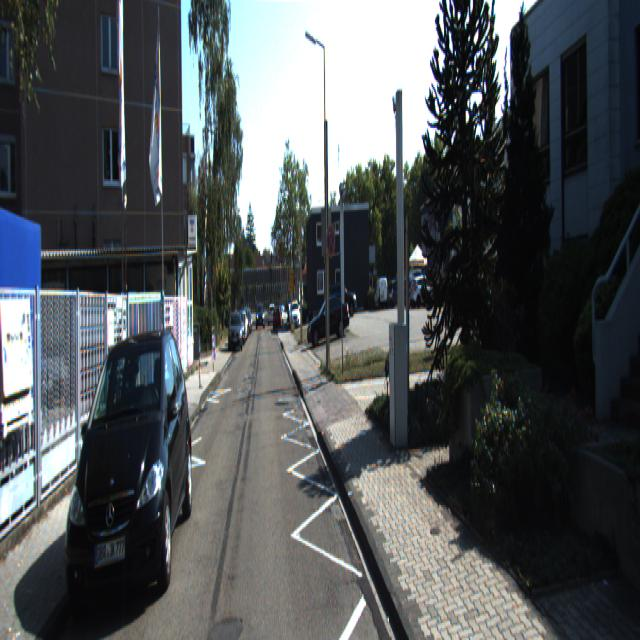Car: (59, 325, 194, 636), (306, 293, 353, 349), (228, 310, 245, 352), (374, 278, 389, 312)
